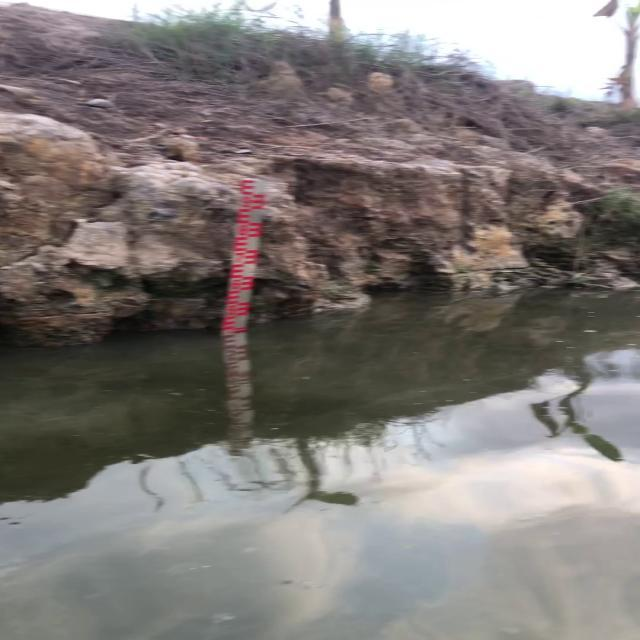ruler: (213, 170, 276, 336)
